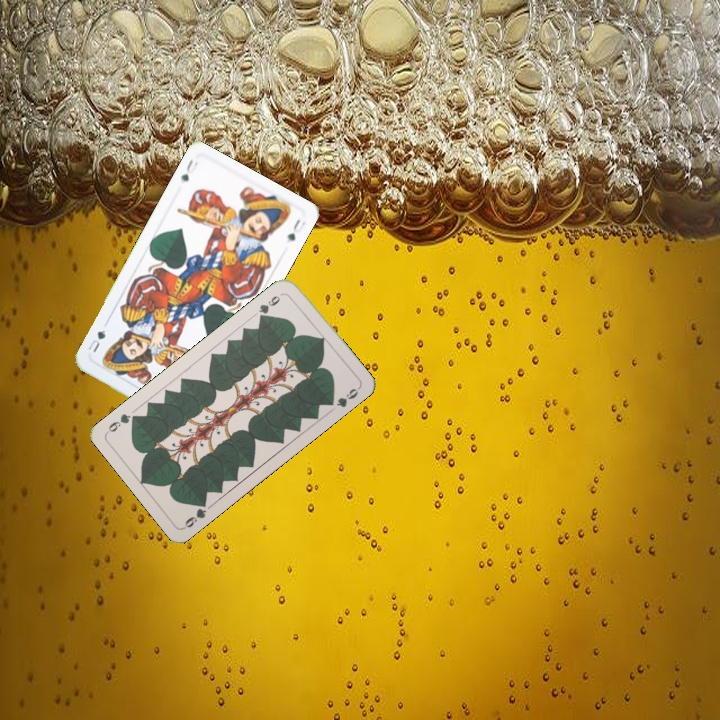G9: (254, 289, 286, 322), (180, 496, 209, 531)
GU: (177, 155, 201, 184)
